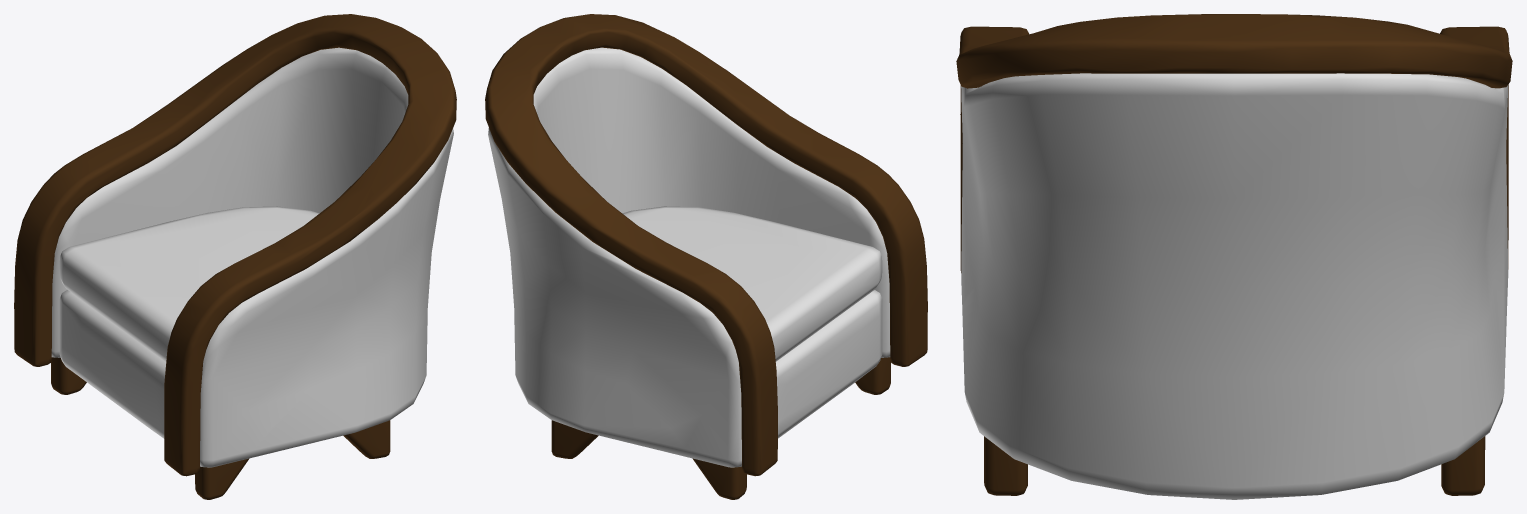
File: armchair_03_white_wooden.fbx
The picture shows the model from 3 angles, left to right: view 1: azimuth 30°, elevation 25°; view 2: azimuth 150°, elevation 25°; view 3: azimuth 270°, elevation 25°; orthographic projection. The views are drawn at different scales.
Visible parts, largest first — view 1: armchair_03_white_wooden; view 2: armchair_03_white_wooden; view 3: armchair_03_white_wooden.
Part boxes in pixels (x1,y1,x2,y2): armchair_03_white_wooden: (14,14,456,499); armchair_03_white_wooden: (485,14,927,499); armchair_03_white_wooden: (956,14,1512,499).
Size of the model in its own units: 110 by 108 by 101.
1 material, 1 textured.
